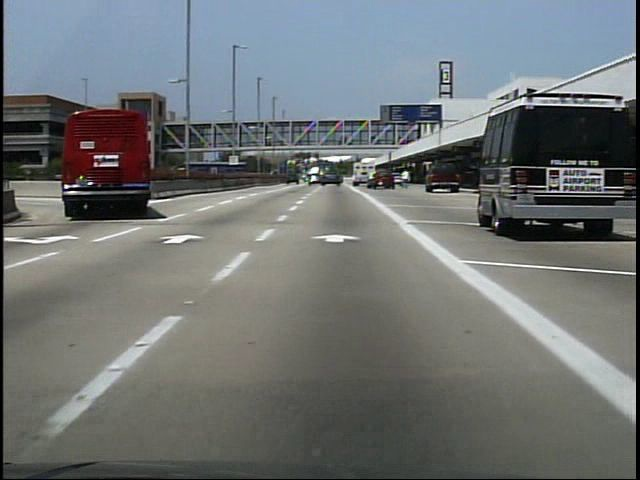person: (397, 169, 411, 191)
